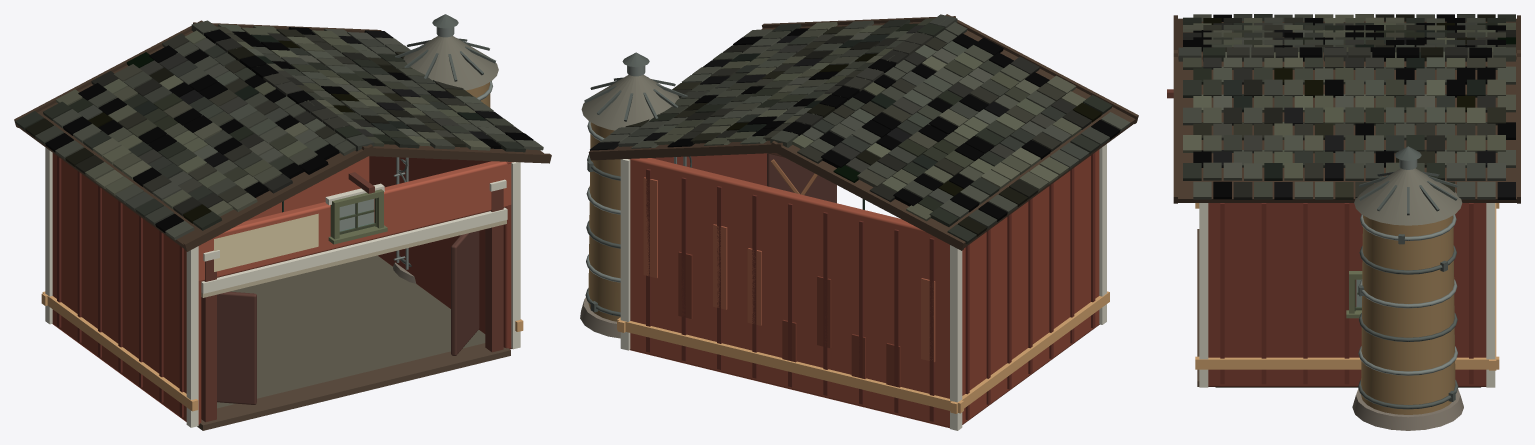
Rendered from barn.m1.glb.
3 views of the same model, side by side, from view 1: azimuth 30°, elevation 25°; view 2: azimuth 150°, elevation 25°; view 3: azimuth 270°, elevation 25° (orthographic). The views are drawn at different scales.
Parts seen in each view (by area): view 1: barnRoof, barnTrim, barnInteriorFloor, barnLeftWall, barnUpperFront, barn.batch.1, barnRightWall, siloHardware, barnSignboard, barnRearWall, barn.batch.0, windowPane; view 2: barnRoof, barnRearWall, barnTrim, barnLeftWall, siloHardware, siloStaves, barnRightWall, barn.batch.1; view 3: barnRoof, barnRightWall, siloStaves, barnTrim, siloHardware, barn.batch.0.
Boxes of the visible parts, x1=… form: barnRoof: x1=14, y1=20, x2=551, y2=251; barnTrim: x1=41, y1=147, x2=523, y2=430; barnInteriorFloor: x1=217, y1=255, x2=485, y2=408; barnLeftWall: x1=52, y1=153, x2=201, y2=425; barnUpperFront: x1=198, y1=161, x2=511, y2=281; barn.batch.1: x1=217, y1=231, x2=479, y2=404; barnRightWall: x1=369, y1=156, x2=513, y2=349; siloHardware: x1=393, y1=14, x2=498, y2=283; barnSignboard: x1=214, y1=213, x2=318, y2=271; barnRearWall: x1=53, y1=156, x2=369, y2=324; barn.batch.0: x1=328, y1=189, x2=387, y2=244; windowPane: x1=339, y1=199, x2=374, y2=231; barnRoof: x1=588, y1=14, x2=1138, y2=250; barnRearWall: x1=628, y1=158, x2=949, y2=428; barnTrim: x1=617, y1=144, x2=1109, y2=430; barnLeftWall: x1=962, y1=150, x2=1099, y2=424; siloHardware: x1=580, y1=52, x2=691, y2=338; siloStaves: x1=588, y1=122, x2=620, y2=321; barnRightWall: x1=652, y1=153, x2=766, y2=185; barn.batch.1: x1=767, y1=153, x2=836, y2=203; barnRoof: x1=1173, y1=14, x2=1520, y2=203; barnRightWall: x1=1208, y1=203, x2=1486, y2=386; siloStaves: x1=1361, y1=215, x2=1455, y2=414; barnTrim: x1=1167, y1=89, x2=1499, y2=387; siloHardware: x1=1352, y1=146, x2=1463, y2=430; barn.batch.0: x1=1346, y1=271, x2=1362, y2=318.
Size of the model in its own units: 11.04 by 6.39 by 7.85.
